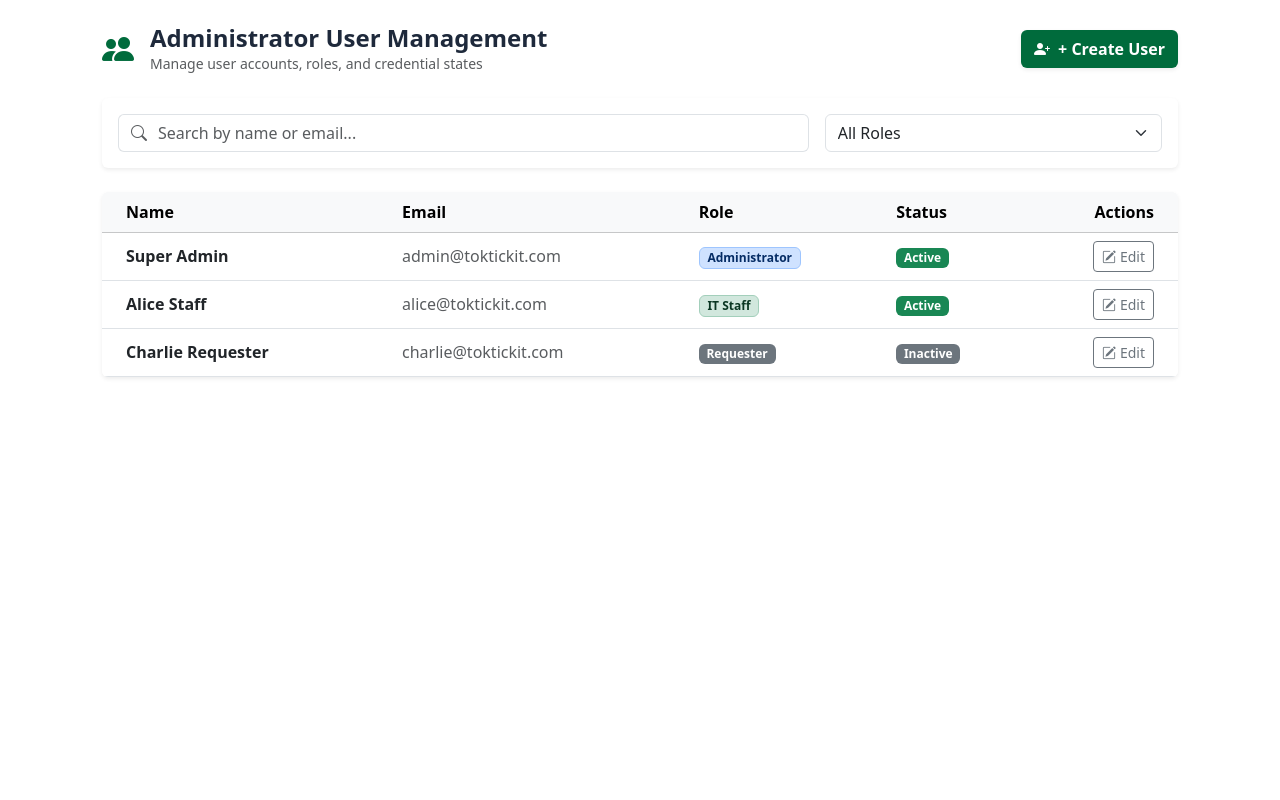
Scenario: Administrator User Management UI (Lab 3 UI-27 to UI-34) › UI-30: allows editing user basic attributes
Click the button with aria-label "edit alice staff": (1123, 304) x1=1093 y1=289 x2=1154 y2=320
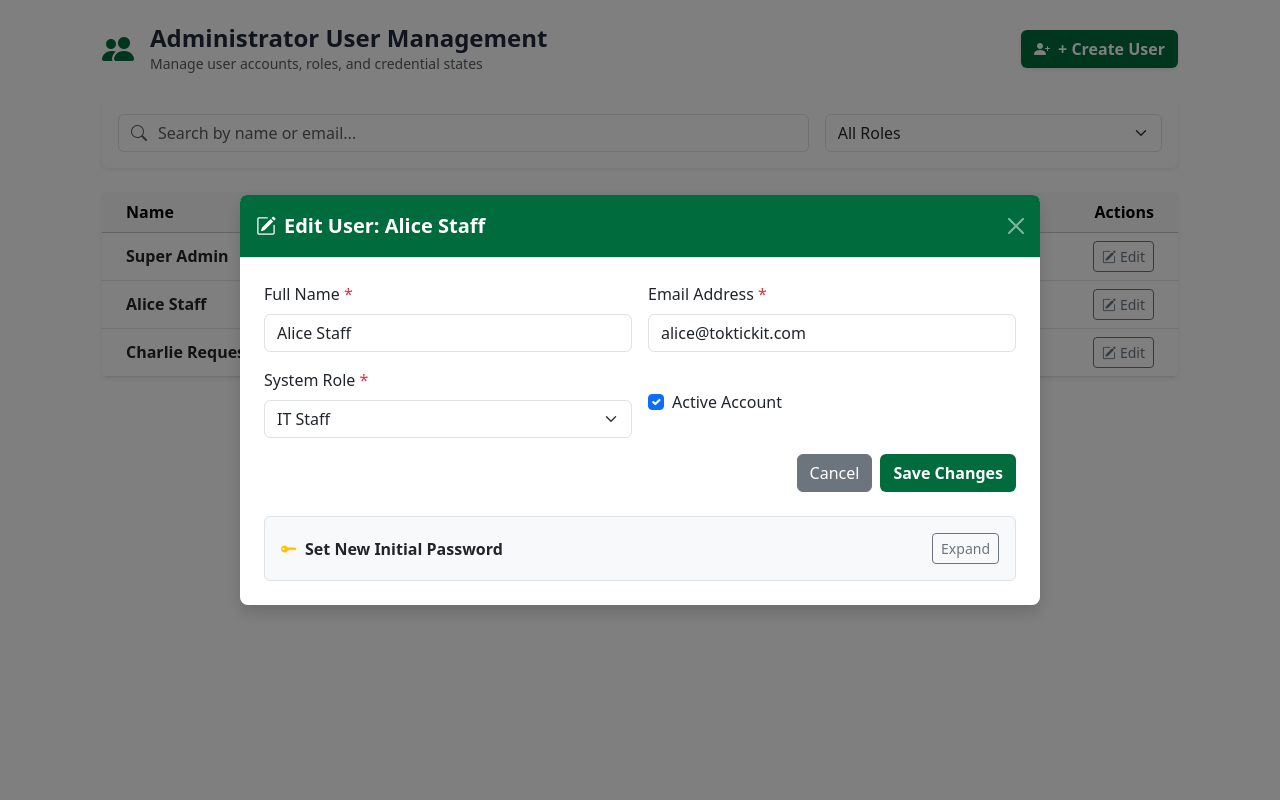
Expected: the heading "Edit User: Alice Staff" is shown, x1=256 y1=211 x2=485 y2=241
Replace the text in the field labelled "Full Name *" with "Alice Updated": (448, 333) x1=264 y1=314 x2=632 y2=352
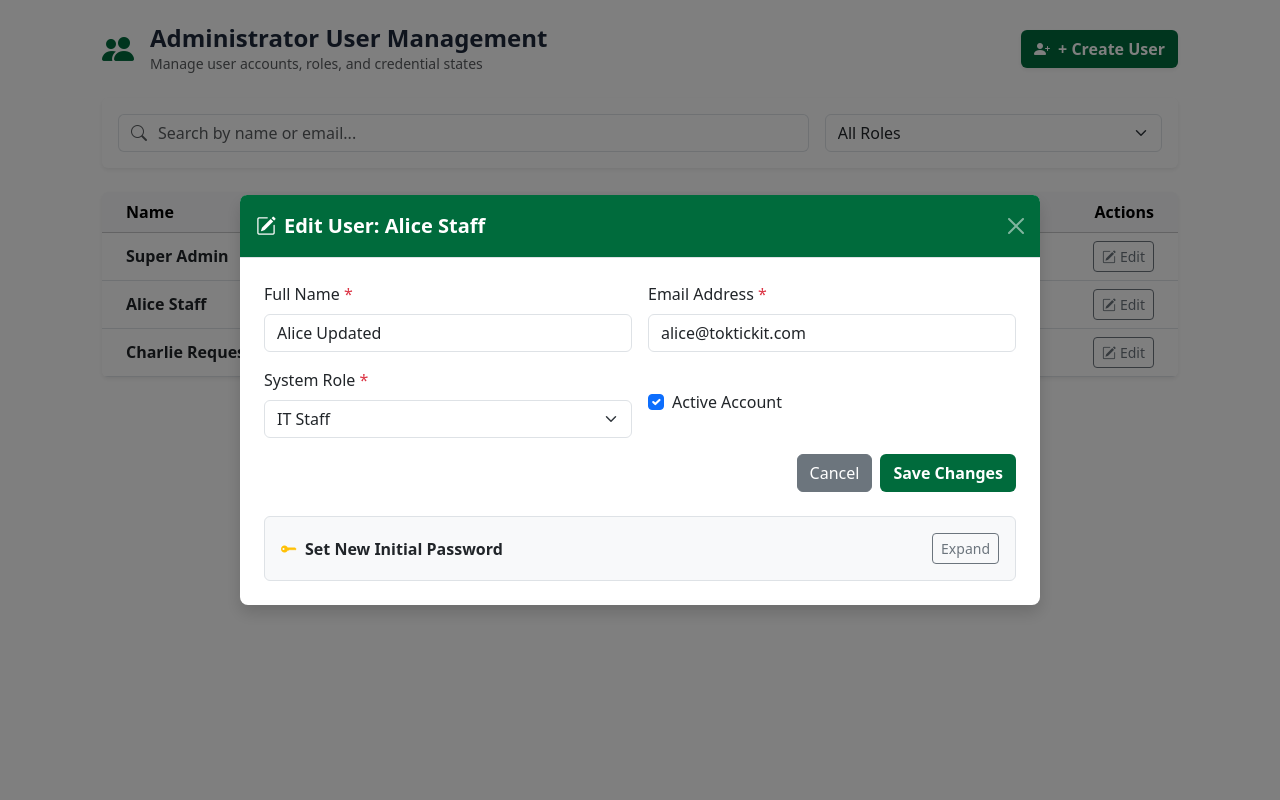
Click the button "Save Changes": (948, 473) x1=880 y1=454 x2=1016 y2=492
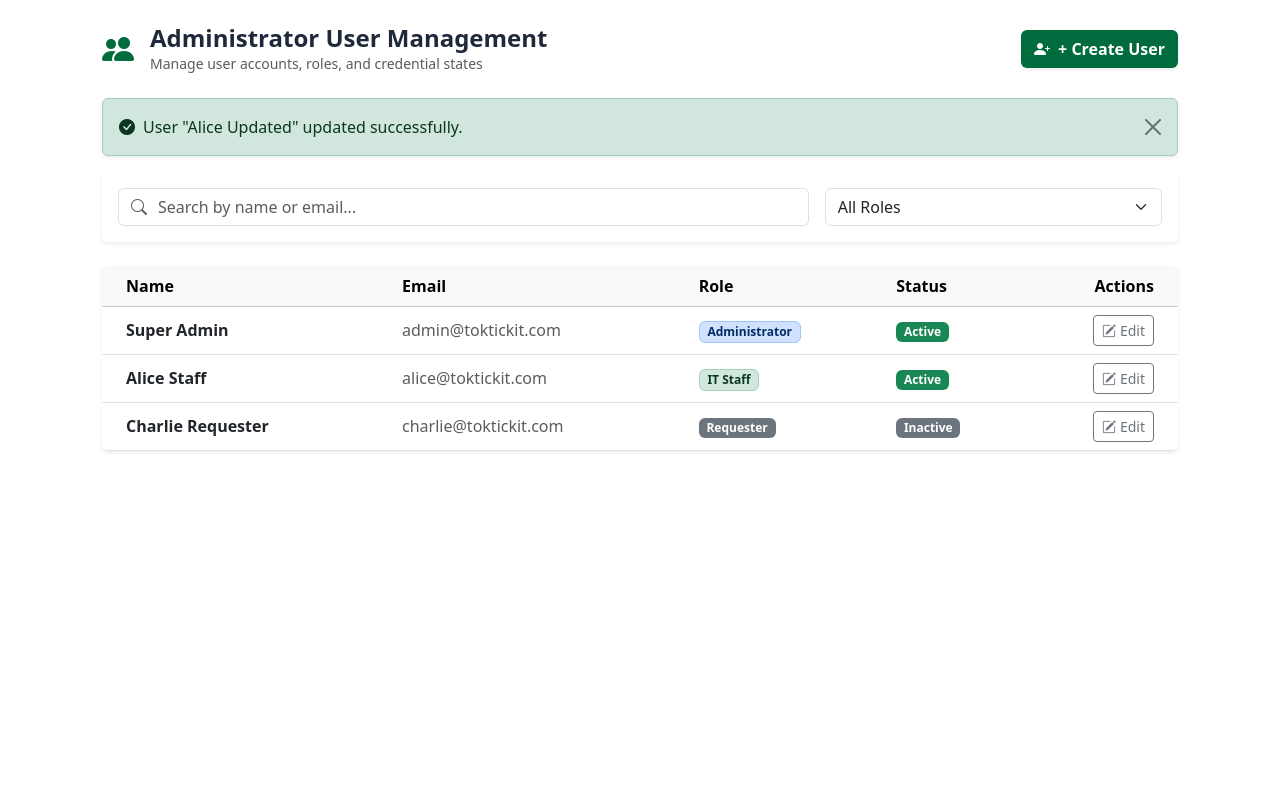
Expected: the text "User \"Alice Updated\" updated successfully." is shown, x1=119 y1=115 x2=463 y2=139
